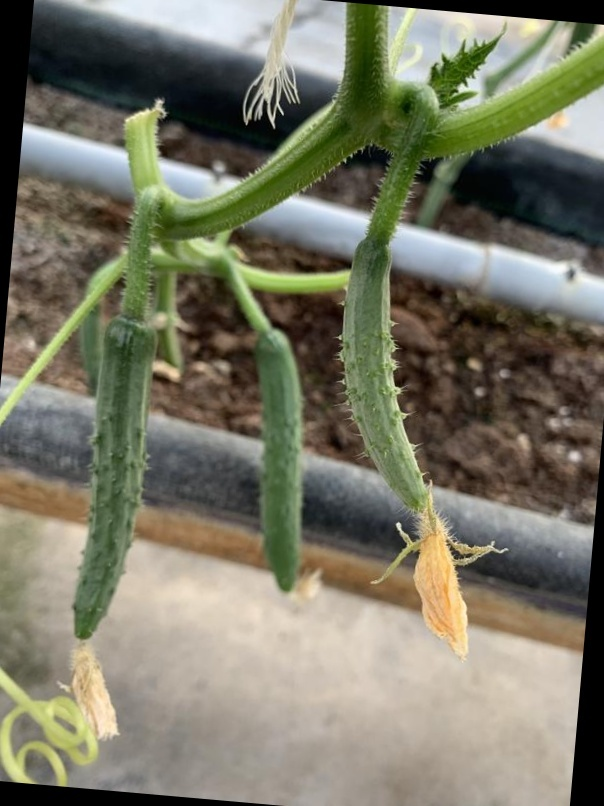bear: (309, 227, 501, 648)
growth: (62, 313, 163, 655), (247, 328, 313, 599)
mature: (247, 328, 313, 599)
